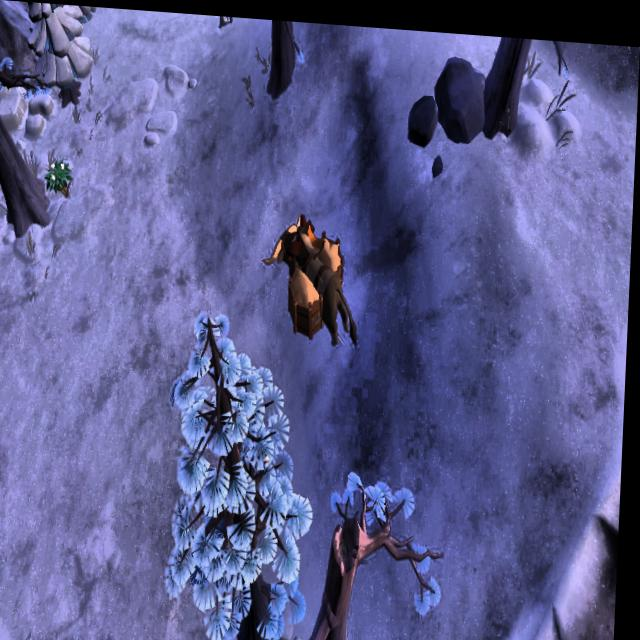fiber_t3: (47, 157, 77, 204)
